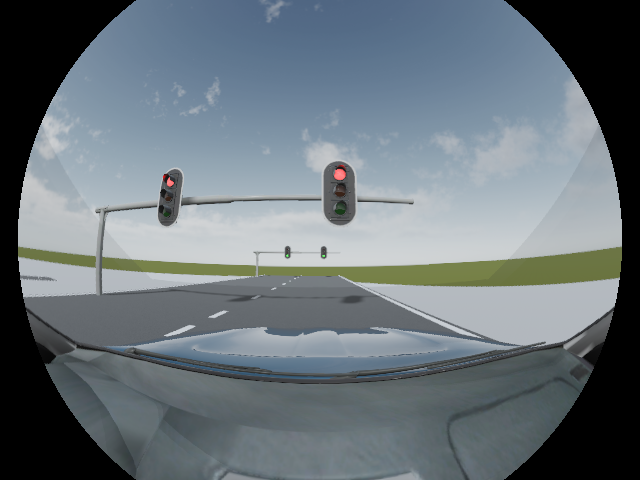Green Light: (321, 246, 327, 259), (284, 247, 290, 259)
Red Light: (324, 161, 356, 226), (160, 168, 182, 226)
